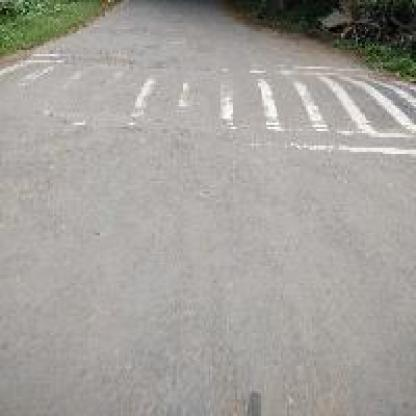Speed Bump: (2, 52, 412, 156)
